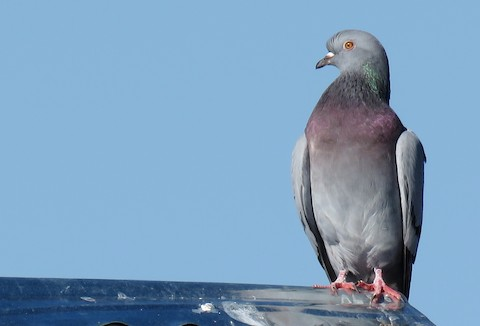pigeon: (288, 27, 430, 310)
